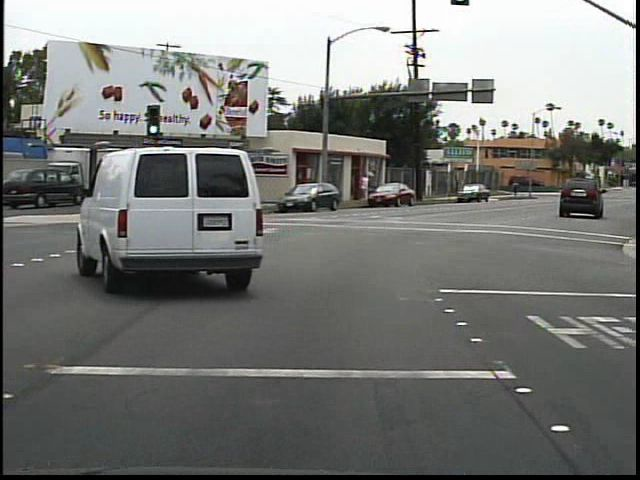person: (356, 170, 370, 202), (509, 175, 521, 201)
